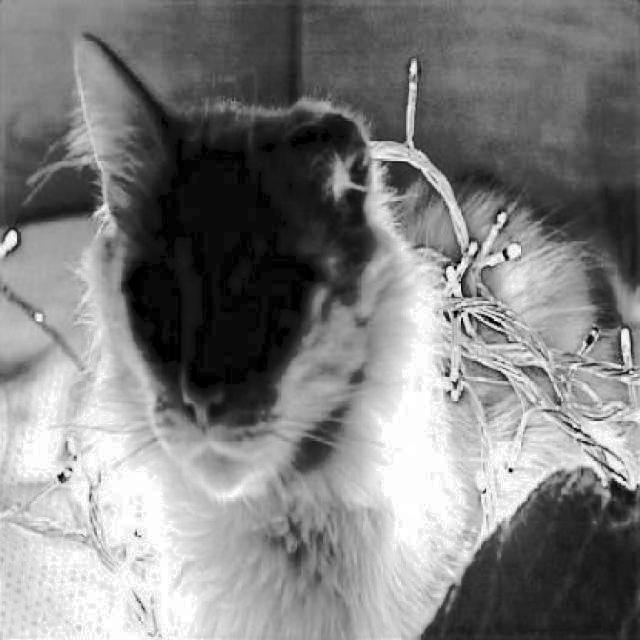Cat: (59, 12, 513, 640)
